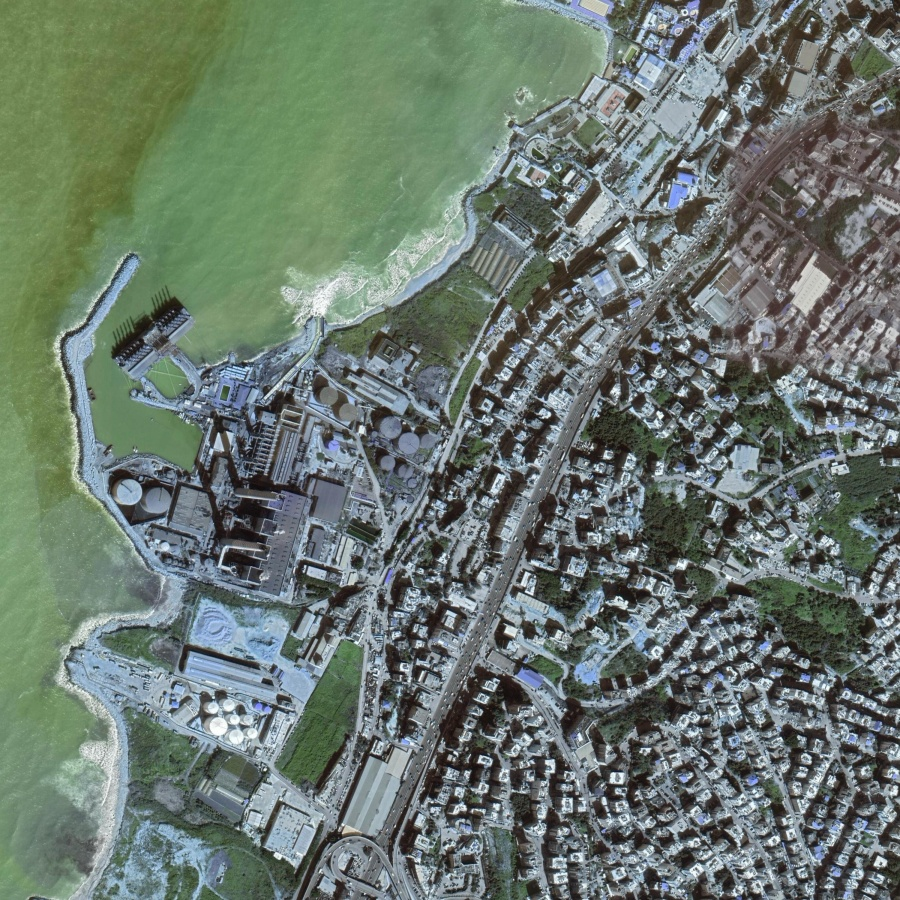PowerPlant: (100, 311, 445, 742)
